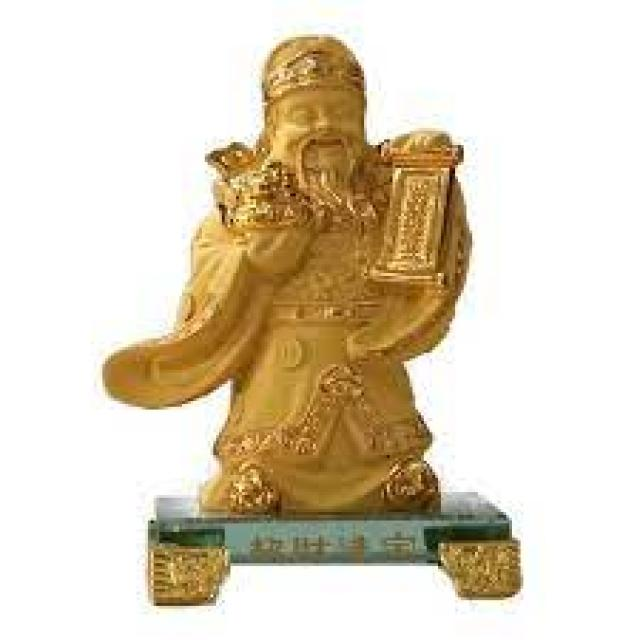Cai shen: (196, 30, 448, 441)
